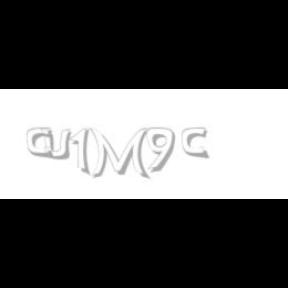1: (69, 128, 91, 176)
9: (146, 128, 176, 172)
M: (89, 128, 148, 180)
c: (26, 128, 55, 160), (182, 128, 210, 160)
u: (40, 128, 76, 160)
